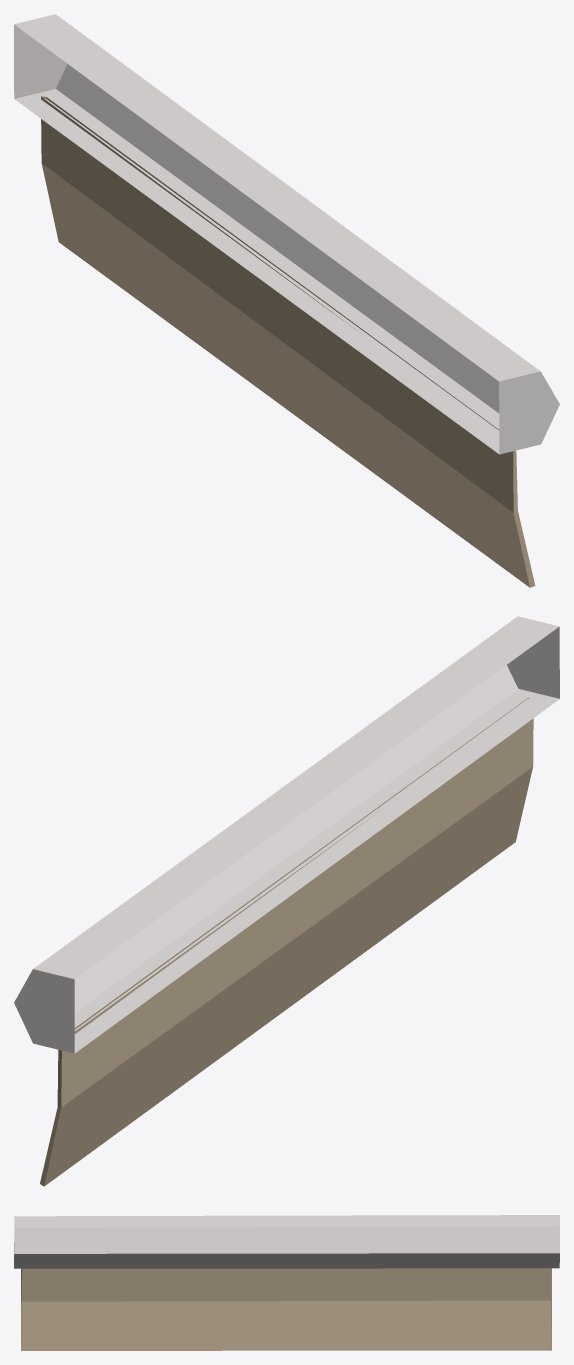
Rendered from Kitchen_2_Curtain.fbx.
The picture shows the model from 3 angles, top to bottom: view 1: azimuth 30°, elevation 25°; view 2: azimuth 150°, elevation 25°; view 3: azimuth 270°, elevation 25°; orthographic projection. The views are drawn at different scales.
Parts seen in each view (by area): view 1: Kitchen_2_Curtain; view 2: Kitchen_2_Curtain; view 3: Kitchen_2_Curtain.
Boxes of the visible parts, left/top/right/bottom form: Kitchen_2_Curtain: left=14, top=14, right=559, bottom=587; Kitchen_2_Curtain: left=14, top=616, right=559, bottom=1186; Kitchen_2_Curtain: left=14, top=1215, right=559, bottom=1350.
Bounding box in the file's own units: 14 × 48.98 × 194.
